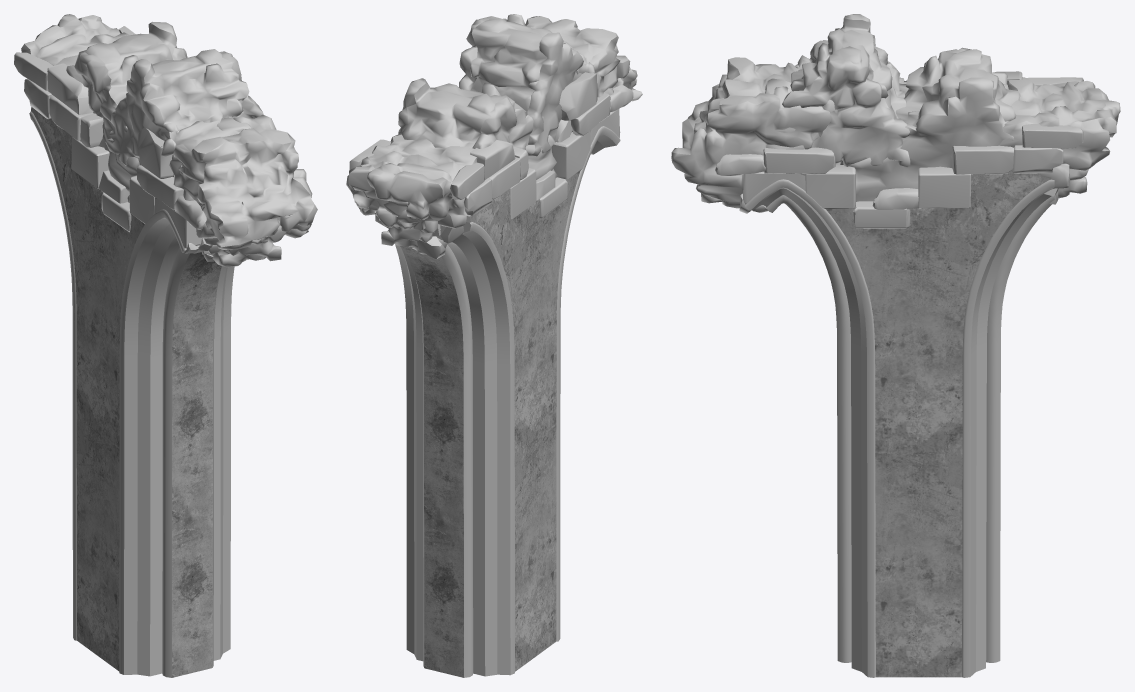
File: SM_Wall_Broken_01b.fbx
3 renders of one model, left to right at view 1: azimuth 30°, elevation 25°; view 2: azimuth 150°, elevation 25°; view 3: azimuth 270°, elevation 25°, orthographic. The views are drawn at different scales.
Visible parts, largest first — view 1: SM_Wall_Broken_01b_LOD0; view 2: SM_Wall_Broken_01b_LOD0; view 3: SM_Wall_Broken_01b_LOD0.
Part boxes in pixels (bbox=[...]): SM_Wall_Broken_01b_LOD0: bbox=[14, 14, 317, 677]; SM_Wall_Broken_01b_LOD0: bbox=[346, 14, 642, 677]; SM_Wall_Broken_01b_LOD0: bbox=[671, 14, 1120, 677].
Bounding box in the file's own units: 215 × 726 × 1099.
